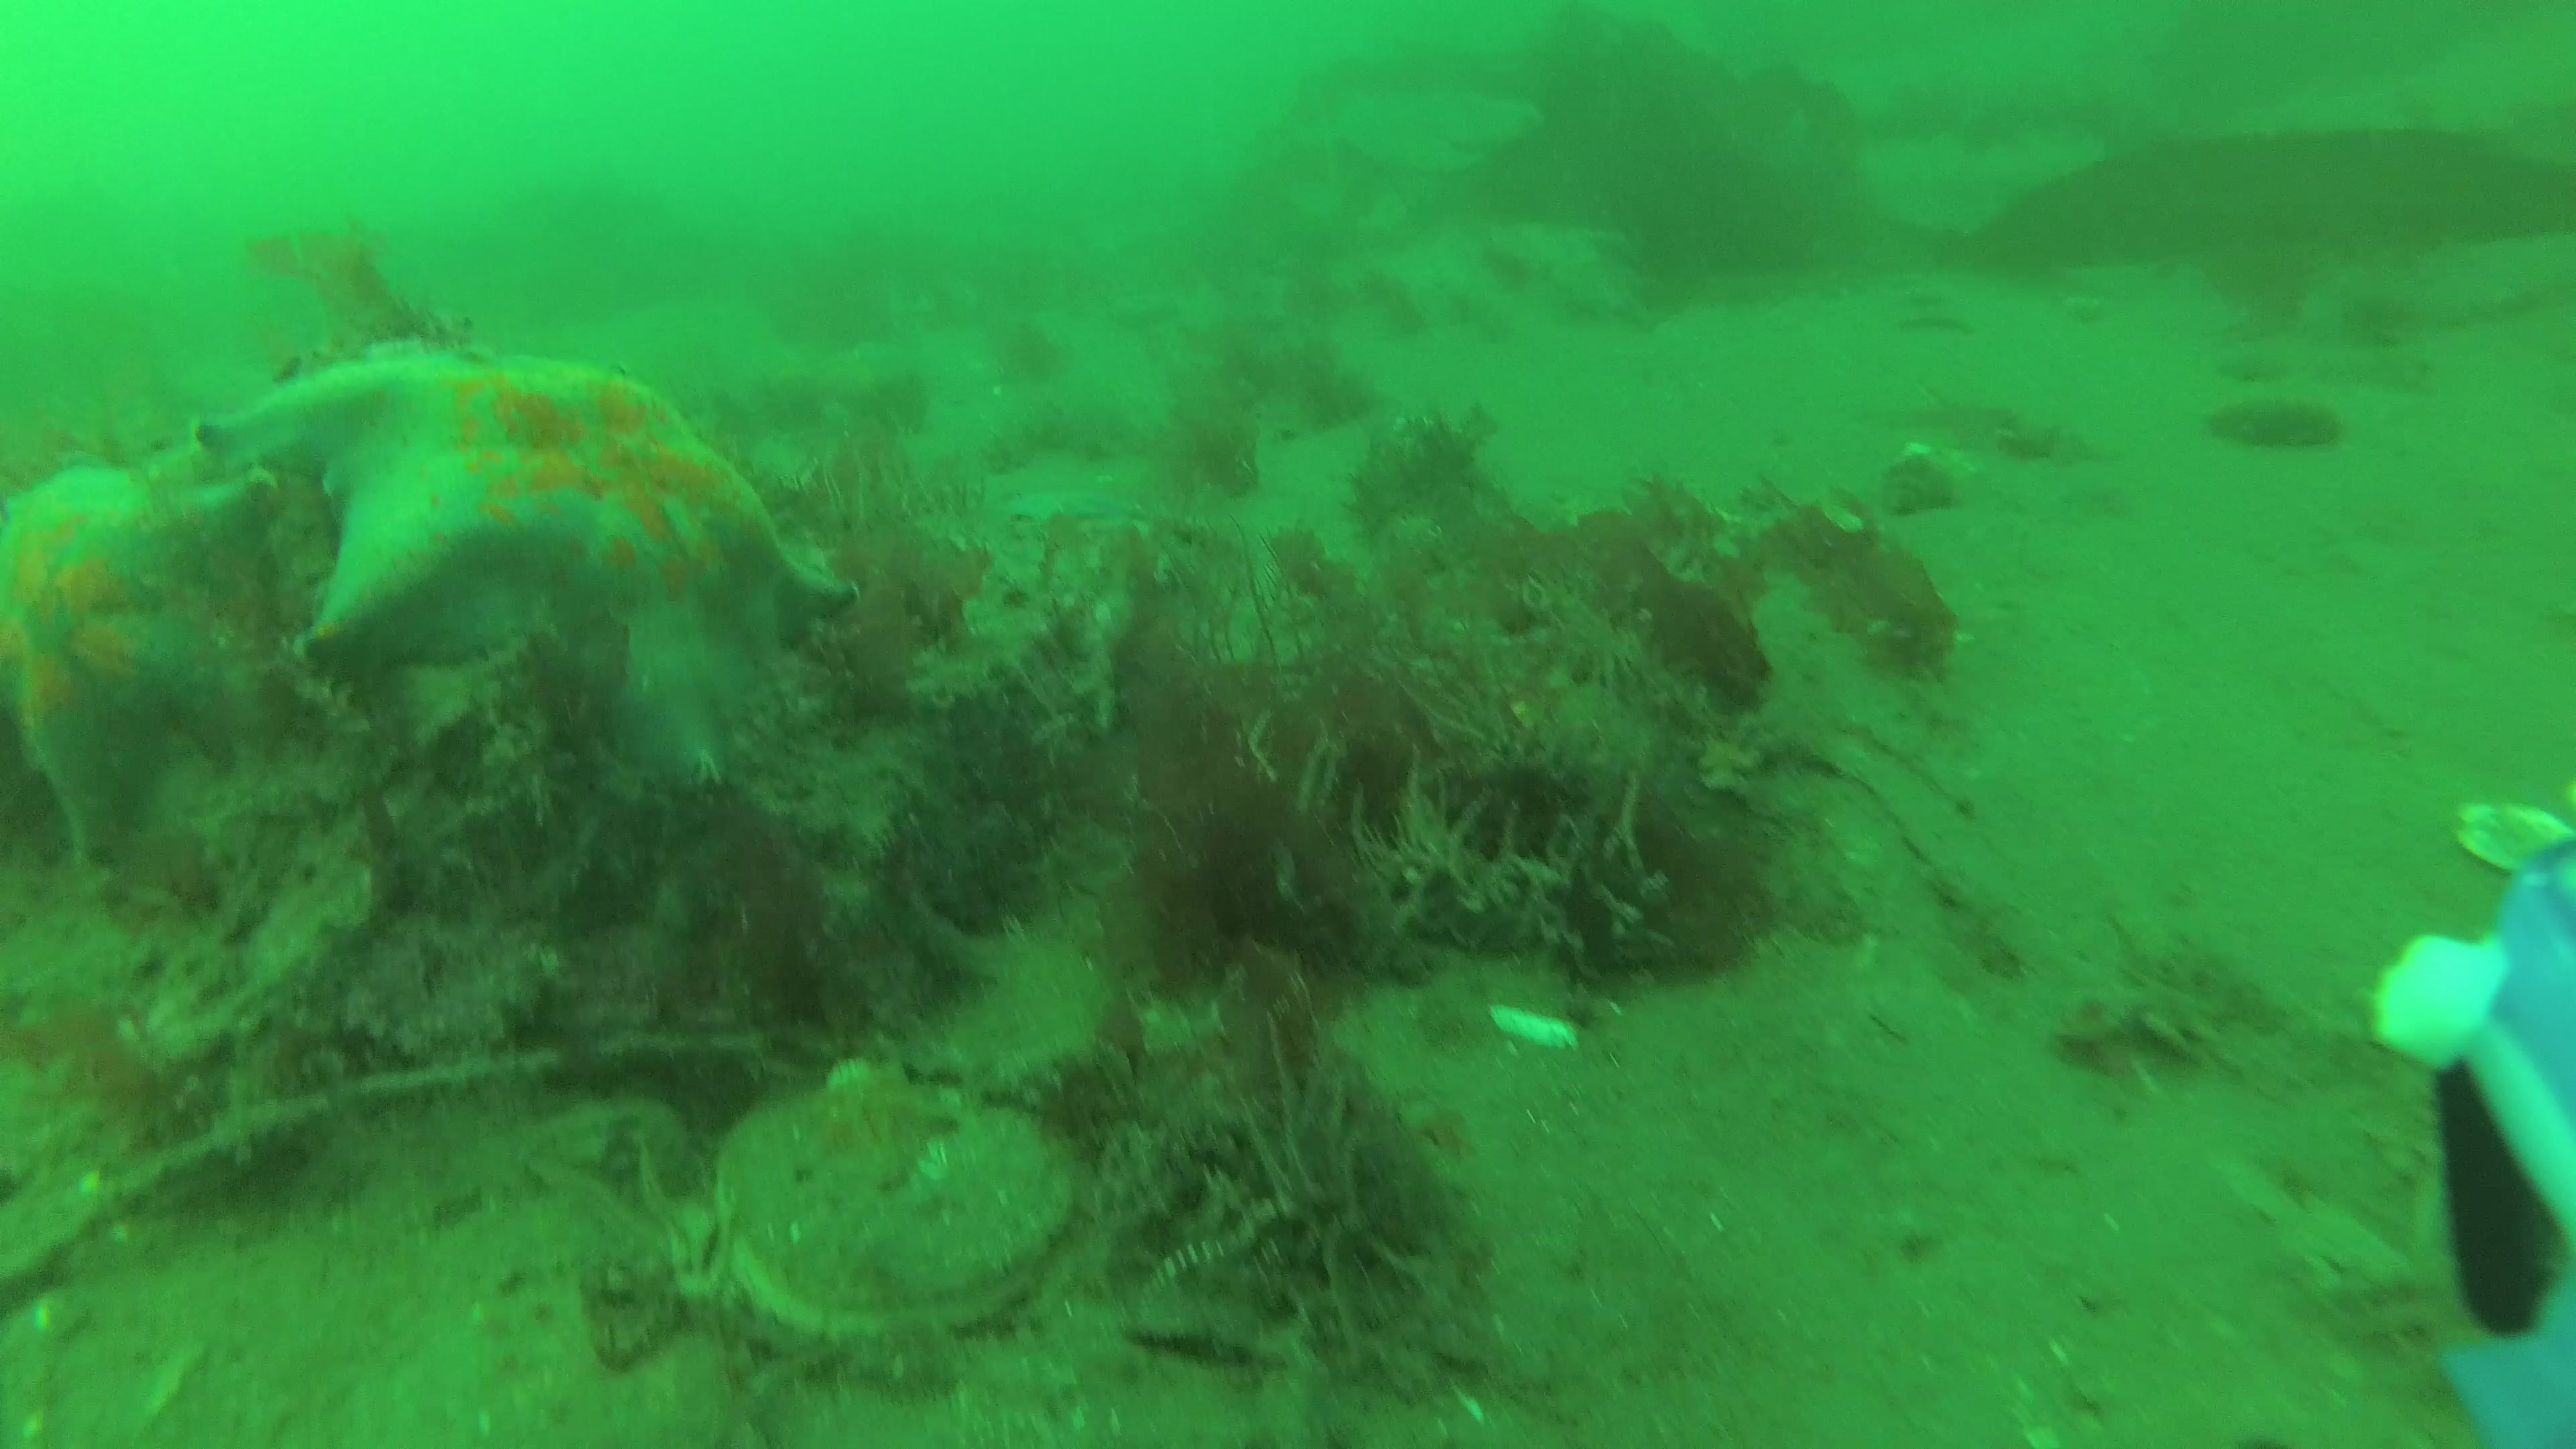starfish: (193, 331, 863, 805), (9, 446, 274, 863)
